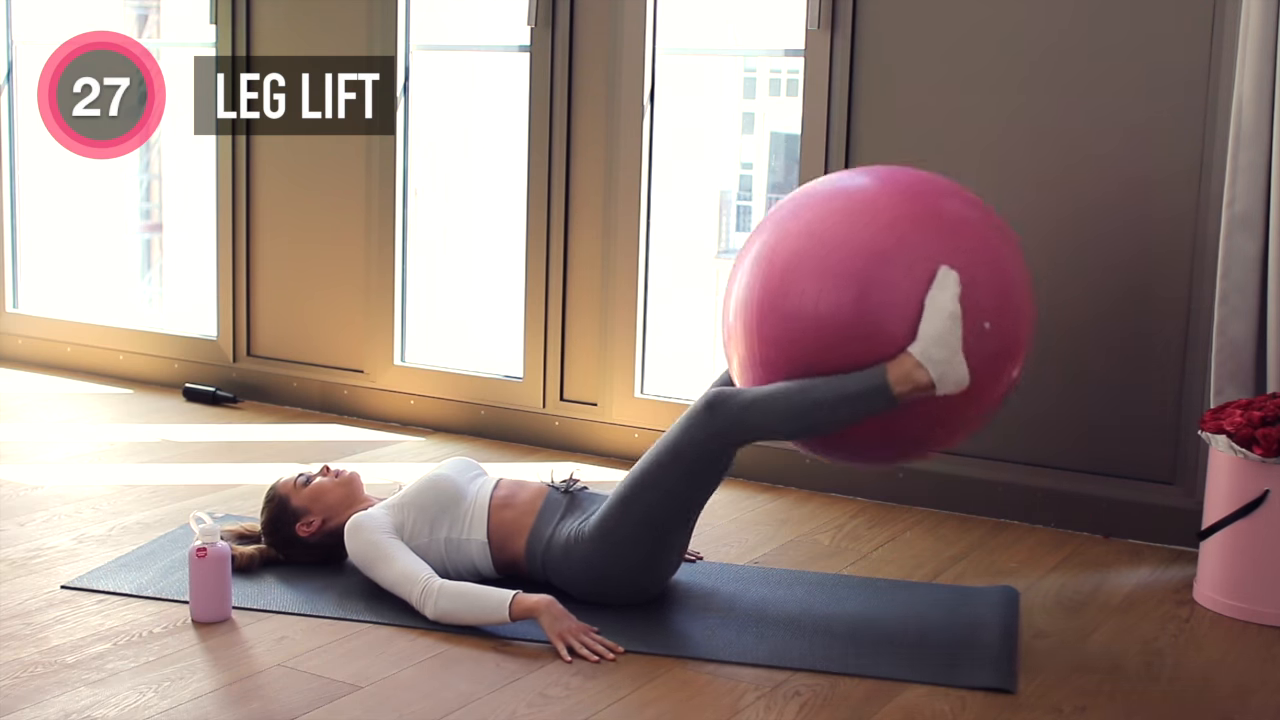yogaball: (718, 160, 1044, 471)
